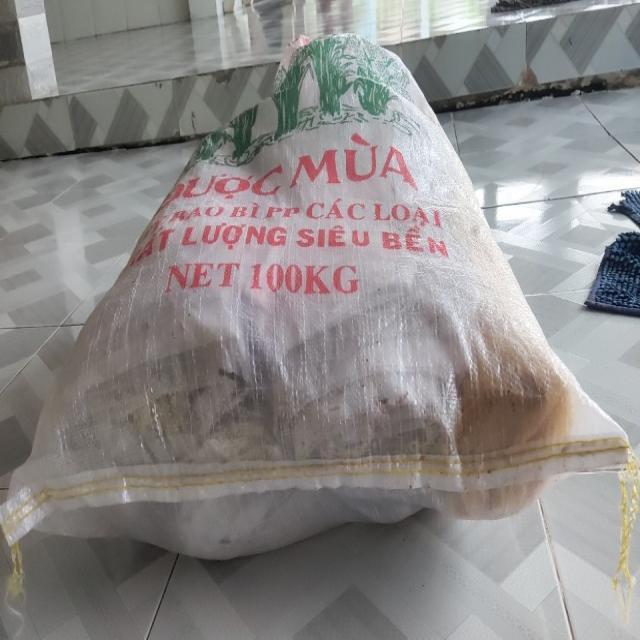gunny_bag: (0, 34, 632, 559)
